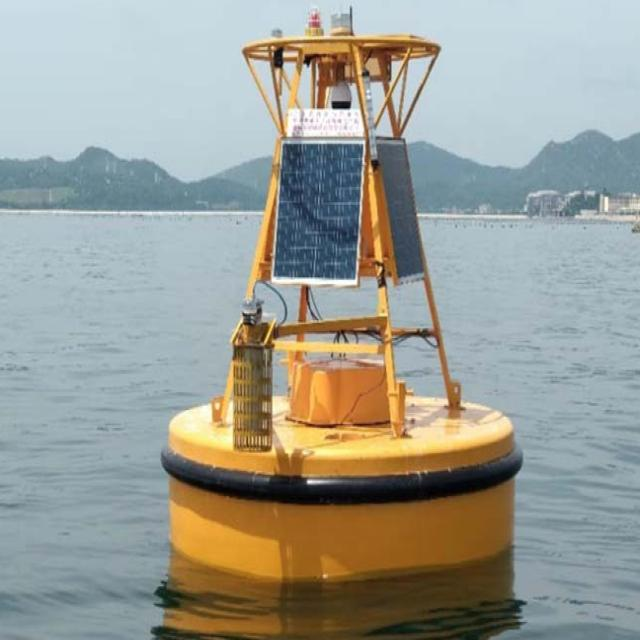buoy: (170, 4, 526, 590)
